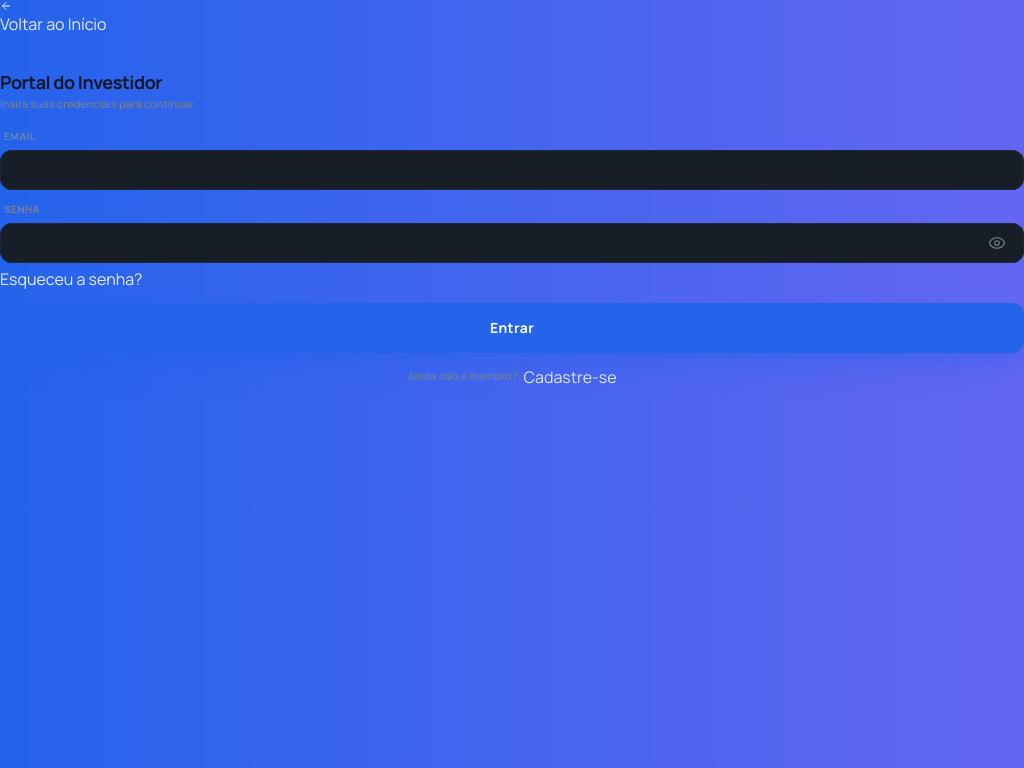
Test: erro de servidor › exibe mensagem genérica para erro sem mensagem
Type "user@email.com" into the field labelled "Email" at (512, 170), box [0,150,1023,190]
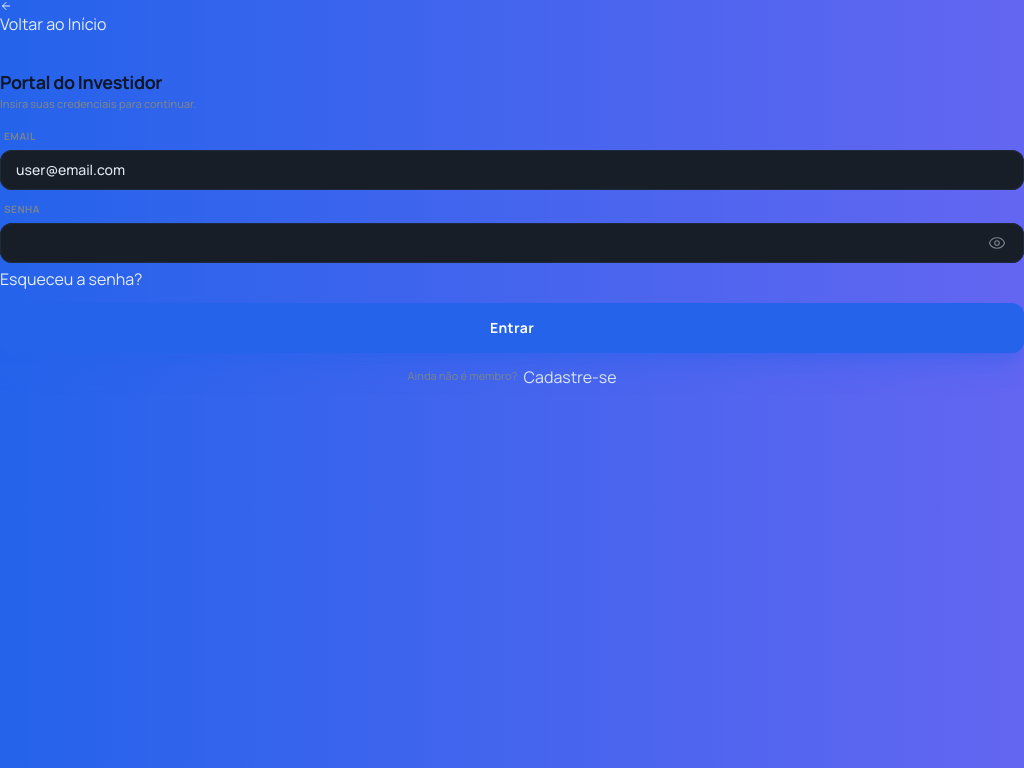
Type "Senha123!" into the password field labelled "Senha" at (512, 242), box [0,222,1023,262]
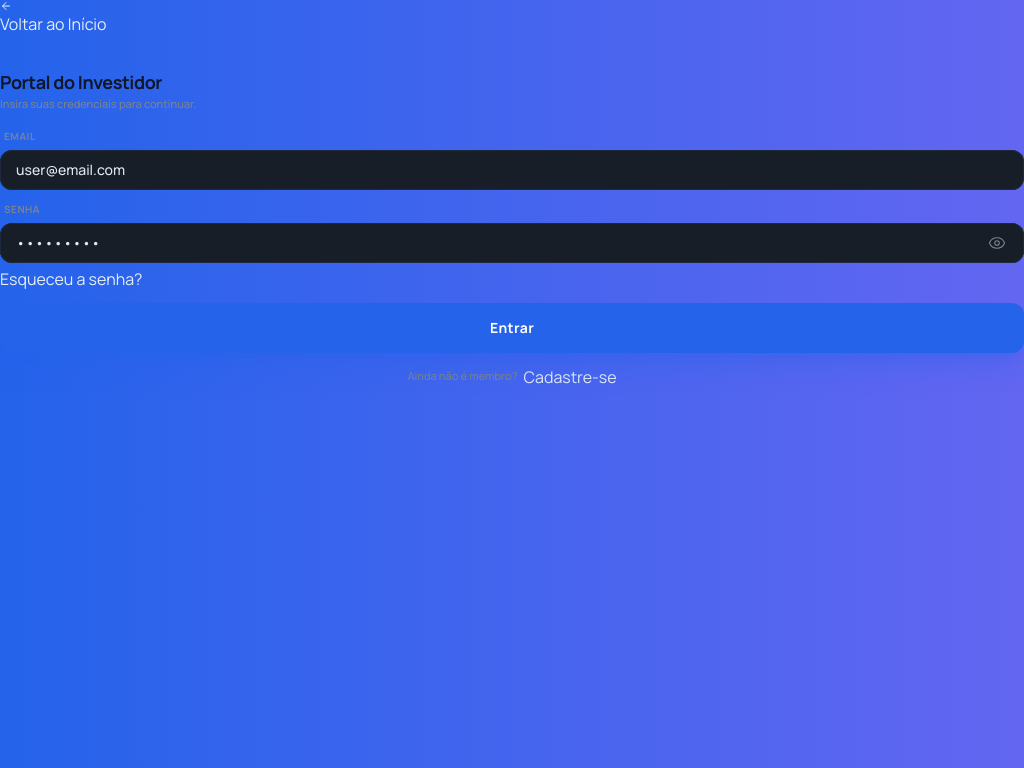
Submit the form, box [0,128,1023,352]
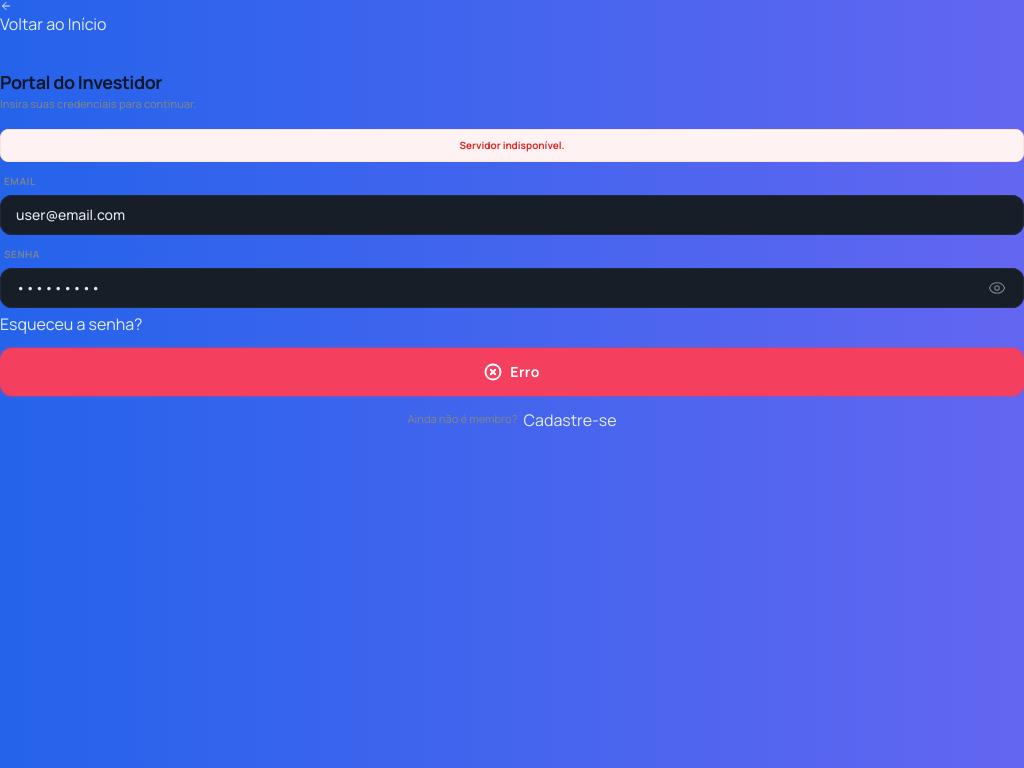
Expected: the text "Servidor indisponível." is shown, [0,128,1023,162]
